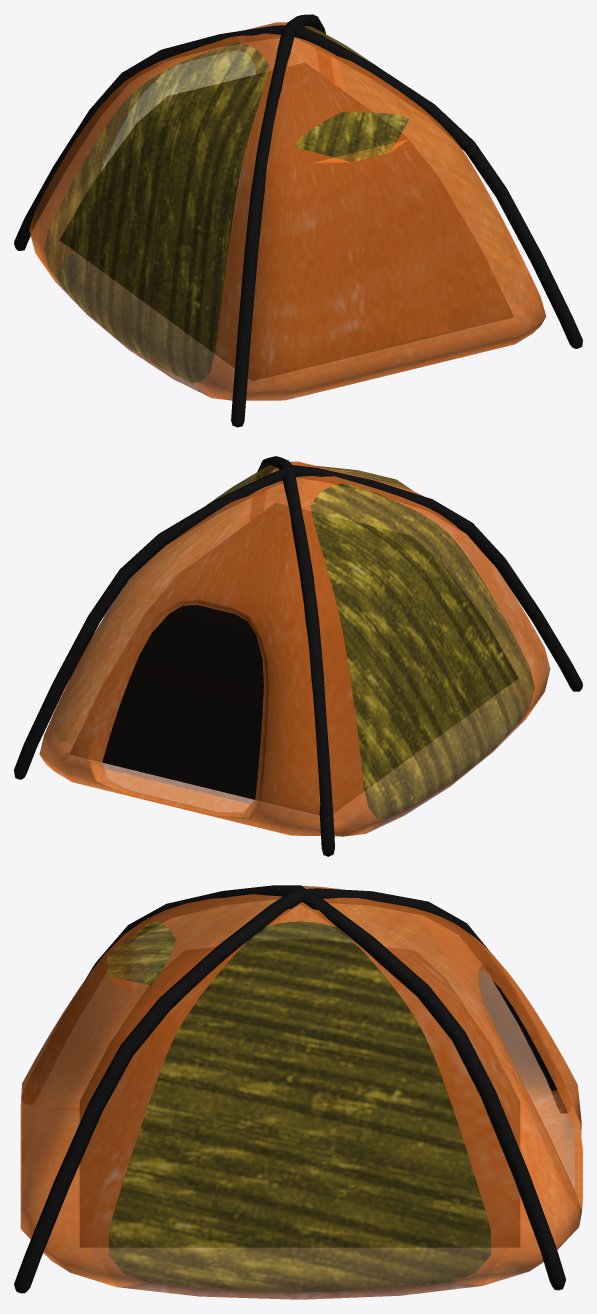
Rendered from tente.FBX.
3 renders of one model, top to bottom at view 1: azimuth 30°, elevation 25°; view 2: azimuth 150°, elevation 25°; view 3: azimuth 270°, elevation 25°, orthographic. The views are drawn at different scales.
Parts seen in each view (by area): view 1: pCube4, pCube1, pCube3, pCube2; view 2: pCube4, pCube1, pCube2, pCube3; view 3: pCube4, pCube1, pCube3, pCube2.
Boxes of the visible parts, left/top/right/bottom form: pCube4: left=29, top=22, right=546, bottom=400; pCube1: left=60, top=63, right=513, bottom=380; pCube3: left=14, top=24, right=582, bottom=348; pCube2: left=231, top=14, right=325, bottom=427; pCube4: left=39, top=461, right=550, bottom=836; pCube1: left=70, top=503, right=517, bottom=814; pCube2: left=14, top=465, right=582, bottom=779; pCube3: left=257, top=456, right=334, bottom=856; pCube4: left=20, top=886, right=582, bottom=1299; pCube1: left=80, top=939, right=519, bottom=1247; pCube3: left=14, top=888, right=567, bottom=1293; pCube2: left=21, top=885, right=565, bottom=1290.
Size of the model in its own units: 215 by 169 by 267.
